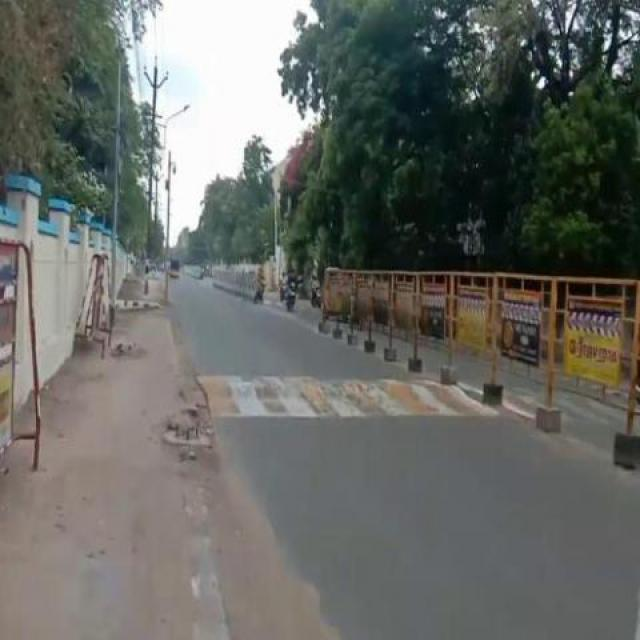Speed Bump: (195, 374, 482, 420), (503, 384, 537, 420), (560, 387, 591, 422)
